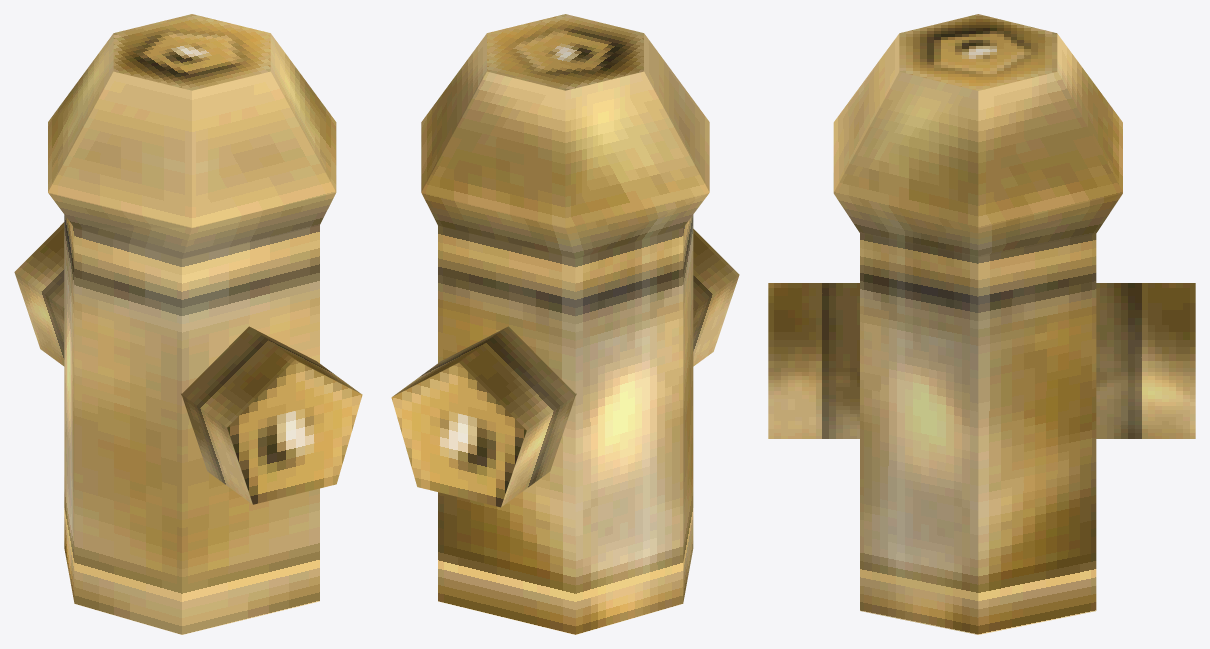
File: fireHydrant01.glb
3 renders of one model, left to right at view 1: azimuth 30°, elevation 25°; view 2: azimuth 150°, elevation 25°; view 3: azimuth 270°, elevation 25°, orthographic.
Visible parts, largest first — view 1: fireHydrant01; view 2: fireHydrant01; view 3: fireHydrant01.
Part boxes in pixels (x1=…): fireHydrant01: x1=14, y1=14, x2=362, y2=634; fireHydrant01: x1=391, y1=14, x2=739, y2=634; fireHydrant01: x1=768, y1=14, x2=1195, y2=634.
Bounding box in the file's own units: 55.79 × 96.62 × 71.27.
Materials: 1 (1 with a texture image).
